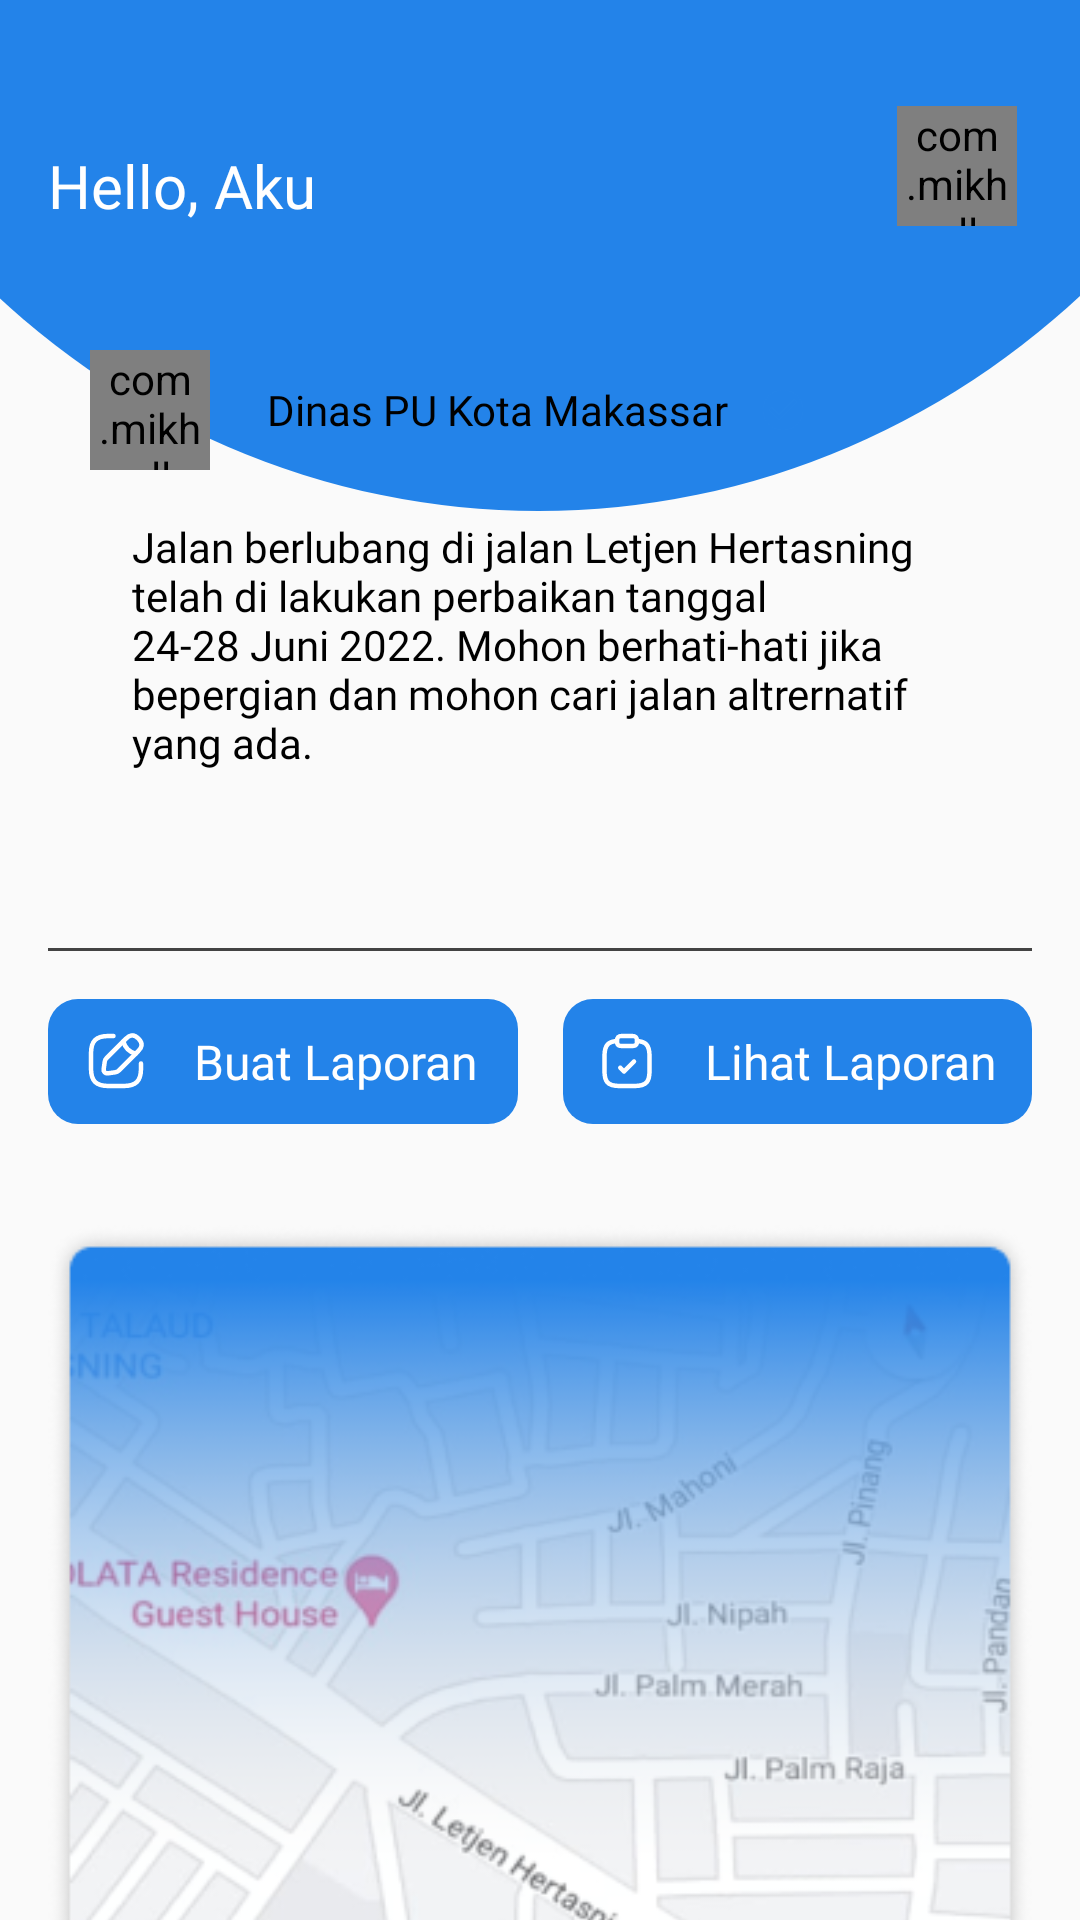

Named icons in this screenshot (1080x1920) and their centers, (x,y):
clipboard tick: (627,1061)
edit: (116,1061)
